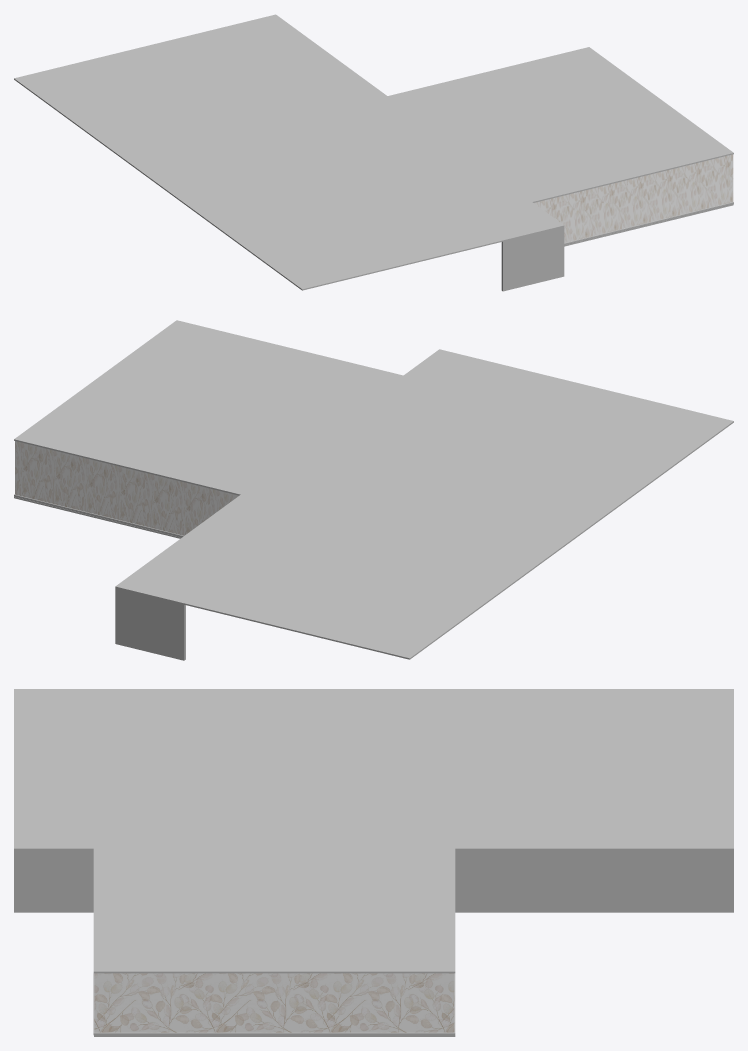
Rendered from echoes_map_v6.fbx.
3 renders of one model, top to bottom at view 1: azimuth 30°, elevation 25°; view 2: azimuth 150°, elevation 25°; view 3: azimuth 270°, elevation 25°, orthographic. The views are drawn at different scales.
Parts seen in each view (by area): view 1: teto.001, parede, rodape; view 2: teto.001, parede; view 3: teto.001, parede, rodape, chao.003.
Part boxes in pixels (<box>): teto.001: <box>14,14,733,291</box>; parede: <box>534,154,733,242</box>; rodape: <box>564,202,733,245</box>; teto.001: <box>14,320,733,660</box>; parede: <box>15,441,238,535</box>; teto.001: <box>14,689,733,973</box>; parede: <box>94,973,454,1032</box>; rodape: <box>93,973,455,1035</box>; chao.003: <box>94,1035,455,1036</box>.
Size of the model in its own units: 12992 by 1403 by 13993.
